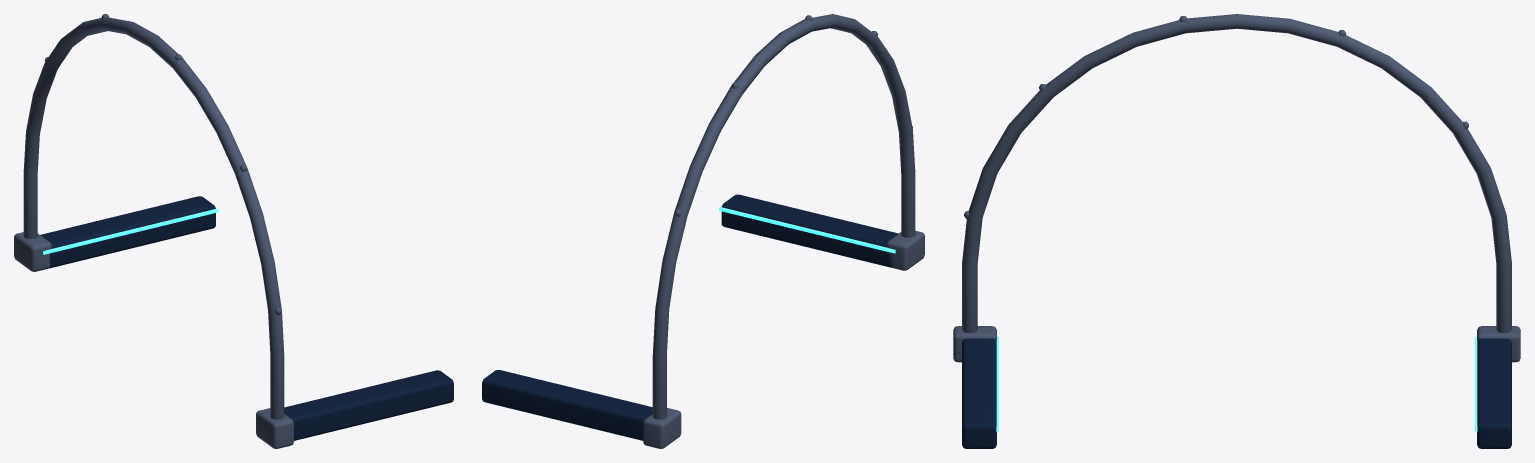
File: aqua_tunnel_rib.glb
3 renders of one model, left to right at view 1: azimuth 30°, elevation 25°; view 2: azimuth 150°, elevation 25°; view 3: azimuth 270°, elevation 25°, orthographic. The views are drawn at different scales.
Visible parts, largest first — view 1: TunnelRib; view 2: TunnelRib; view 3: TunnelRib.
Part boxes in pixels (box(x1,y1,x2,y2)): TunnelRib: box(14, 14, 453, 448); TunnelRib: box(482, 14, 924, 448); TunnelRib: box(953, 14, 1520, 448).
Bounding box in the file's own units: 2.65 × 4.35 × 6.5.
